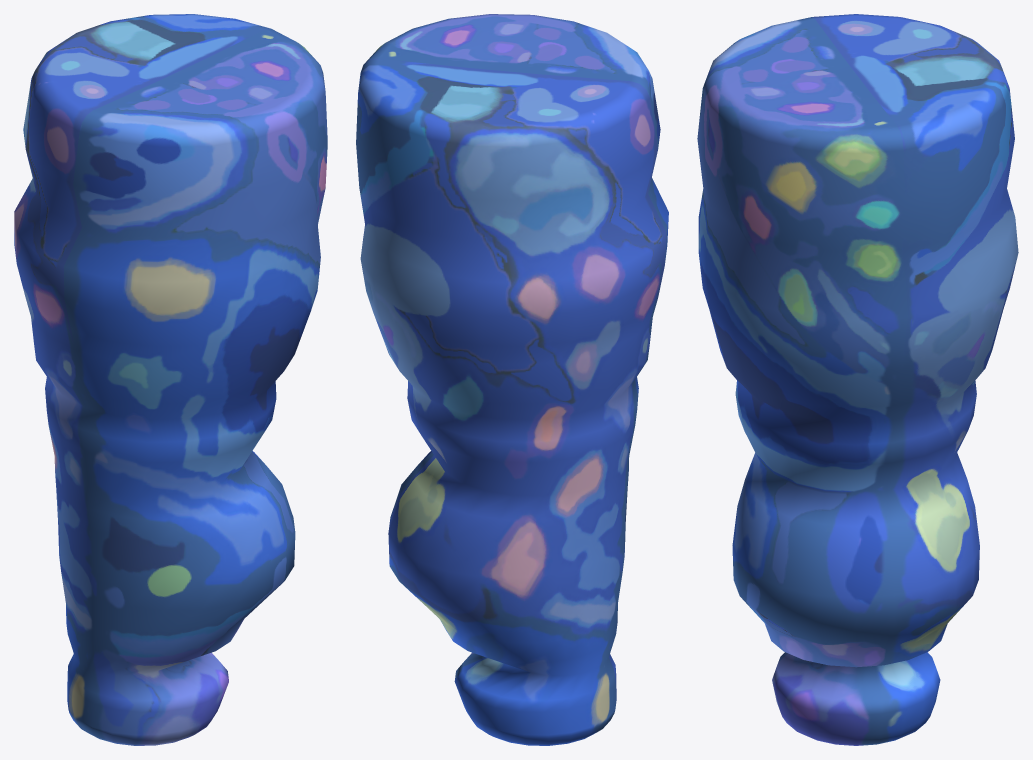
The model's file is tiaotai04.fbx.
3 views of the same model, side by side, from view 1: azimuth 30°, elevation 25°; view 2: azimuth 150°, elevation 25°; view 3: azimuth 270°, elevation 25° (orthographic). The views are drawn at different scales.
Visible parts, largest first — view 1: pCylinder7; view 2: pCylinder7; view 3: pCylinder7.
Part boxes in pixels (box(x1,y1,x2,y2)): pCylinder7: box(14, 14, 327, 745); pCylinder7: box(356, 14, 668, 745); pCylinder7: box(697, 14, 1018, 745).
Bounding box in the file's own units: 1.04 × 2.33 × 1.02.
